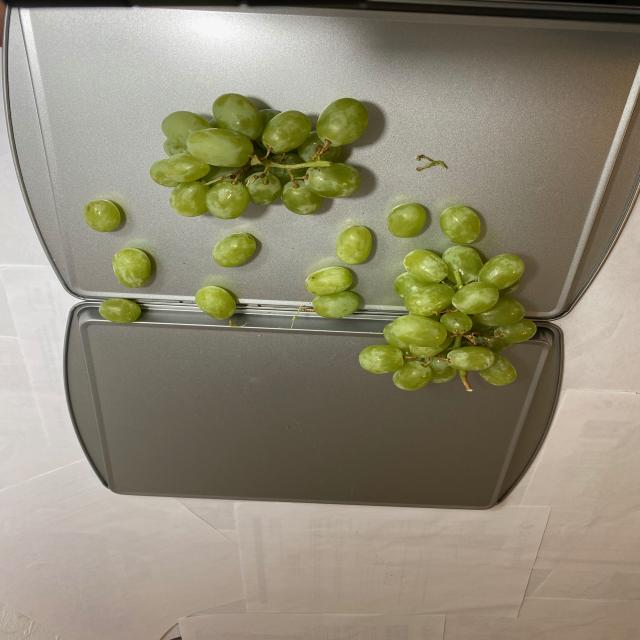grapes: (83, 98, 537, 389)
